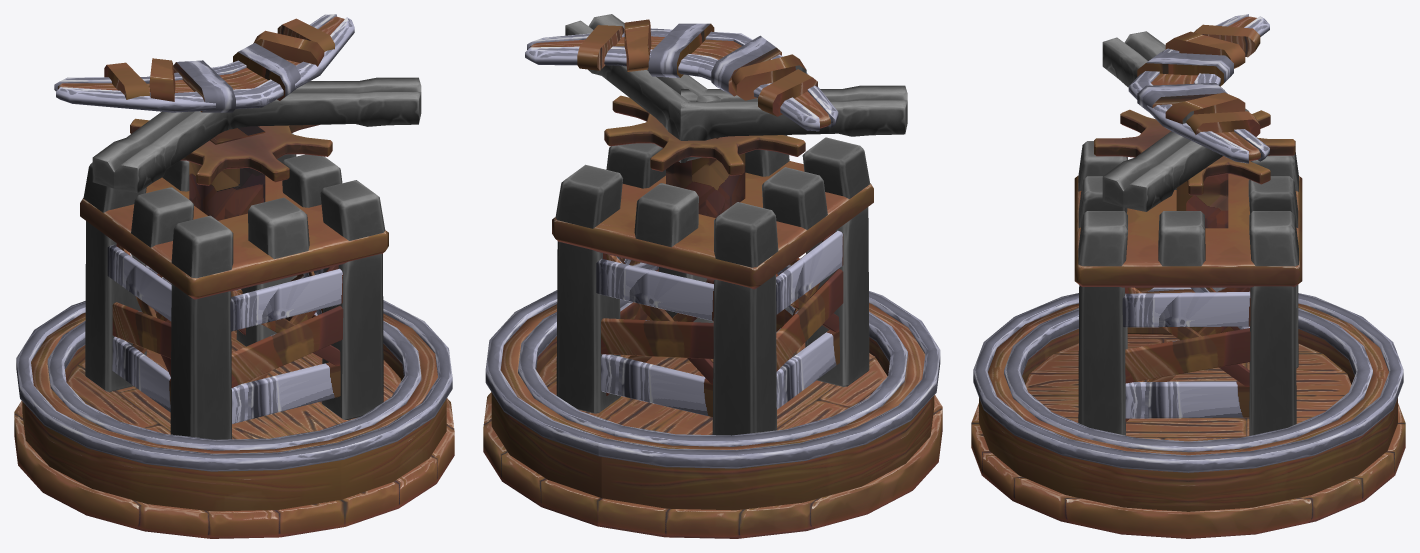
The model's file is B_QiuXingFeiDanTa_lv2.fbx.
3 renders of one model, left to right at view 1: azimuth 30°, elevation 25°; view 2: azimuth 150°, elevation 25°; view 3: azimuth 270°, elevation 25°, orthographic. The views are drawn at different scales.
Visible parts, largest first — view 1: polySurface35232232567, pasted__polySurface35232232484070, polySurface35232232568, pasted__polySurface35232232557, pasted__polySurface35232232484066, polySurface35232232562, polySurface35232232570; view 2: polySurface35232232567, pasted__polySurface35232232484070, polySurface35232232568, pasted__polySurface35232232557, pasted__polySurface35232232484066, polySurface35232232562, polySurface35232232570; view 3: polySurface35232232567, pasted__polySurface35232232484070, pasted__polySurface35232232557, polySurface35232232568, pasted__polySurface35232232484066, polySurface35232232562, polySurface35232232570.
Part boxes in pixels (x1,y1,x2,y2): polySurface35232232567: (14,133,454,538); pasted__polySurface35232232484070: (107,243,343,423); polySurface35232232568: (92,77,421,192); pasted__polySurface35232232557: (104,18,334,112); pasted__polySurface35232232484066: (54,14,354,112); polySurface35232232562: (130,118,332,185); polySurface35232232570: (189,126,265,220); polySurface35232232567: (483,135,942,538); pasted__polySurface35232232484070: (596,230,843,417); polySurface35232232568: (565,14,907,162); pasted__polySurface35232232557: (577,19,817,116); pasted__polySurface35232232484066: (525,28,838,131); polySurface35232232562: (604,95,805,175); polySurface35232232570: (666,137,745,217); polySurface35232232567: (971,141,1405,538); pasted__polySurface35232232484070: (1122,287,1250,421); pasted__polySurface35232232557: (1137,24,1260,136); polySurface35232232568: (1102,31,1249,211); pasted__polySurface35232232484066: (1128,14,1269,163); polySurface35232232562: (1094,109,1295,195); polySurface35232232570: (1176,173,1228,228).
Size of the model in its own units: 188 by 179 by 188.
